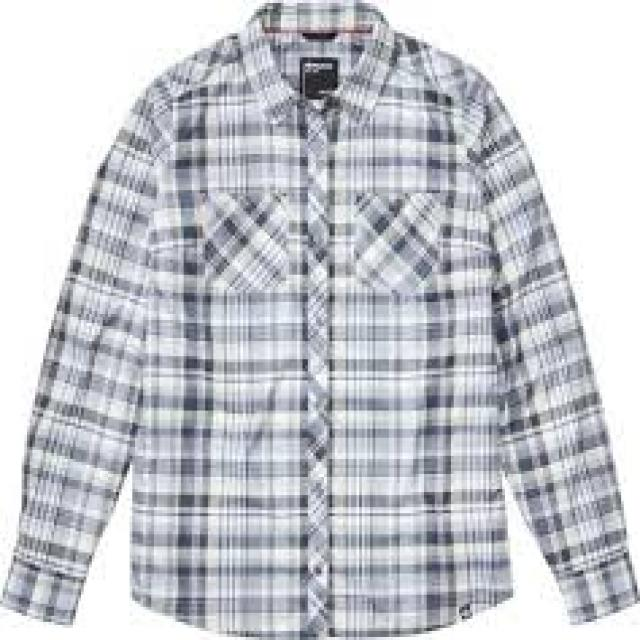plaid: (5, 15, 640, 628)
